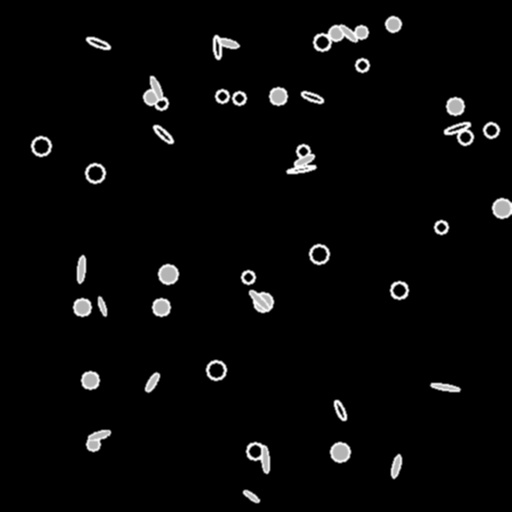pseudomonas: (152, 123, 174, 145), (248, 289, 270, 311), (443, 120, 471, 136), (148, 75, 164, 101), (338, 23, 358, 43), (143, 371, 161, 393), (293, 152, 315, 168), (86, 36, 110, 50), (300, 90, 324, 104), (333, 399, 347, 421), (430, 382, 460, 392), (286, 164, 316, 174), (390, 454, 402, 478), (88, 429, 110, 441), (217, 37, 239, 49), (242, 489, 260, 503), (261, 445, 269, 473), (77, 255, 85, 283), (97, 297, 107, 315), (213, 36, 221, 58)
synechocystis: (331, 443, 349, 461), (86, 164, 104, 182), (32, 137, 50, 155), (493, 199, 511, 217), (254, 293, 272, 311), (159, 265, 177, 283), (207, 361, 225, 379), (310, 245, 328, 263), (153, 299, 169, 315), (74, 299, 90, 315), (82, 372, 98, 388), (314, 34, 330, 50), (447, 98, 463, 114), (247, 443, 263, 459), (270, 88, 286, 104), (391, 282, 407, 298), (386, 17, 400, 31), (484, 123, 498, 137), (458, 130, 472, 144), (329, 26, 343, 40), (144, 90, 158, 104), (435, 221, 447, 233), (87, 438, 99, 450), (356, 59, 368, 71), (242, 271, 254, 283), (155, 97, 167, 109), (233, 92, 245, 104), (216, 90, 228, 102), (355, 26, 367, 38), (297, 145, 309, 157)
